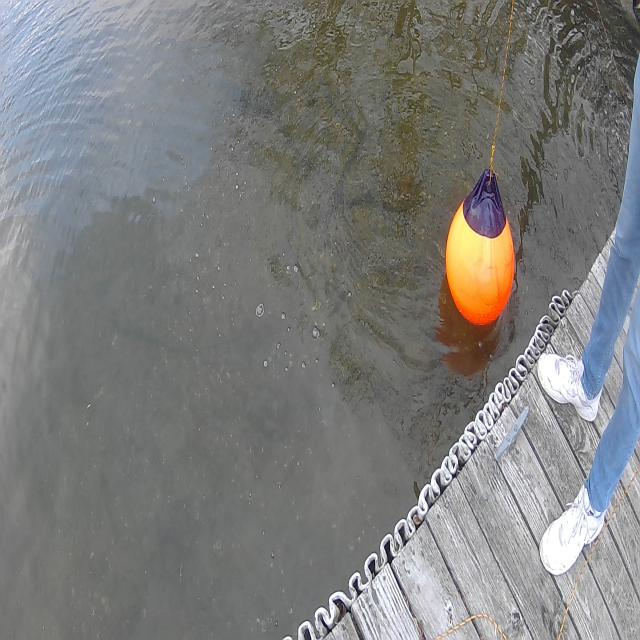Buoy: (442, 164, 518, 340)
